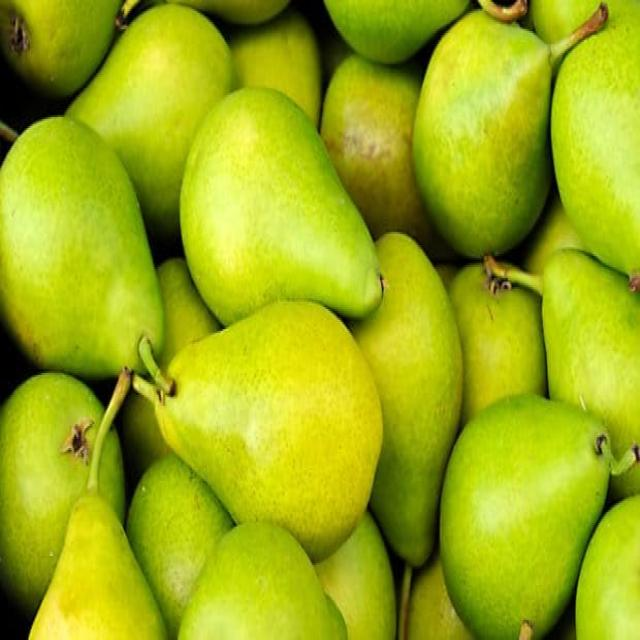Pear: (142, 307, 386, 548), (178, 87, 388, 320), (416, 8, 606, 258), (440, 396, 621, 638), (0, 117, 169, 375), (62, 6, 250, 194), (0, 377, 145, 602), (370, 229, 463, 570), (498, 253, 640, 456), (25, 464, 171, 638), (556, 13, 639, 292), (174, 528, 352, 638), (234, 18, 324, 130), (575, 482, 638, 636), (323, 0, 464, 64)
